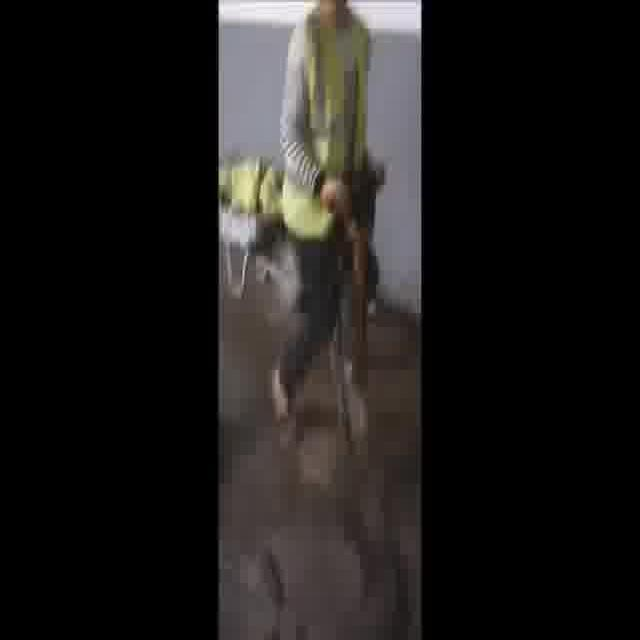safety_helmet: (281, 9, 371, 236)
